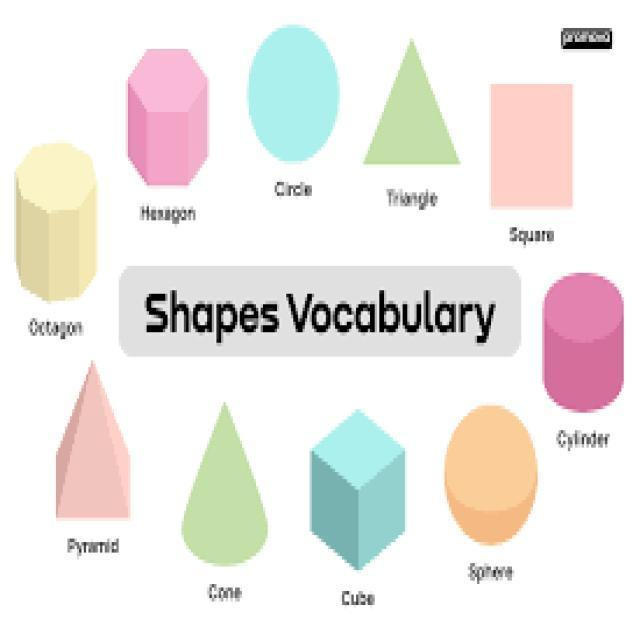circle: (233, 8, 371, 198), (438, 388, 563, 581)
square: (471, 48, 611, 248)
triangle: (346, 8, 474, 222)
